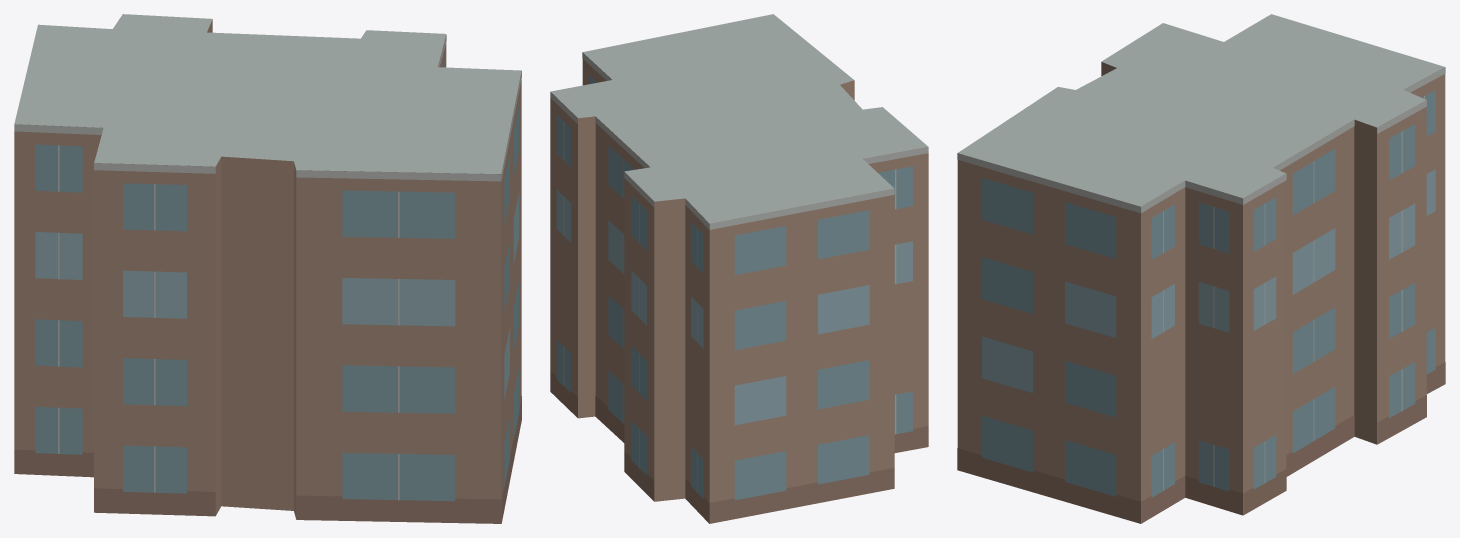
Rendered from survey-upis-32883921.glb.
3 views of the same model, side by side, from view 1: azimuth 30°, elevation 25°; view 2: azimuth 150°, elevation 25°; view 3: azimuth 270°, elevation 25° (orthographic). The views are drawn at different scales.
Parts seen in each view (by area): view 1: survey-upis-32883921.tmp; view 2: survey-upis-32883921.tmp; view 3: survey-upis-32883921.tmp.
Part boxes in pixels (<box>): survey-upis-32883921.tmp: <box>14,14,521,523</box>; survey-upis-32883921.tmp: <box>550,14,928,523</box>; survey-upis-32883921.tmp: <box>957,14,1445,523</box>.
Size of the model in its own units: 15.19 by 11.65 by 16.25.
